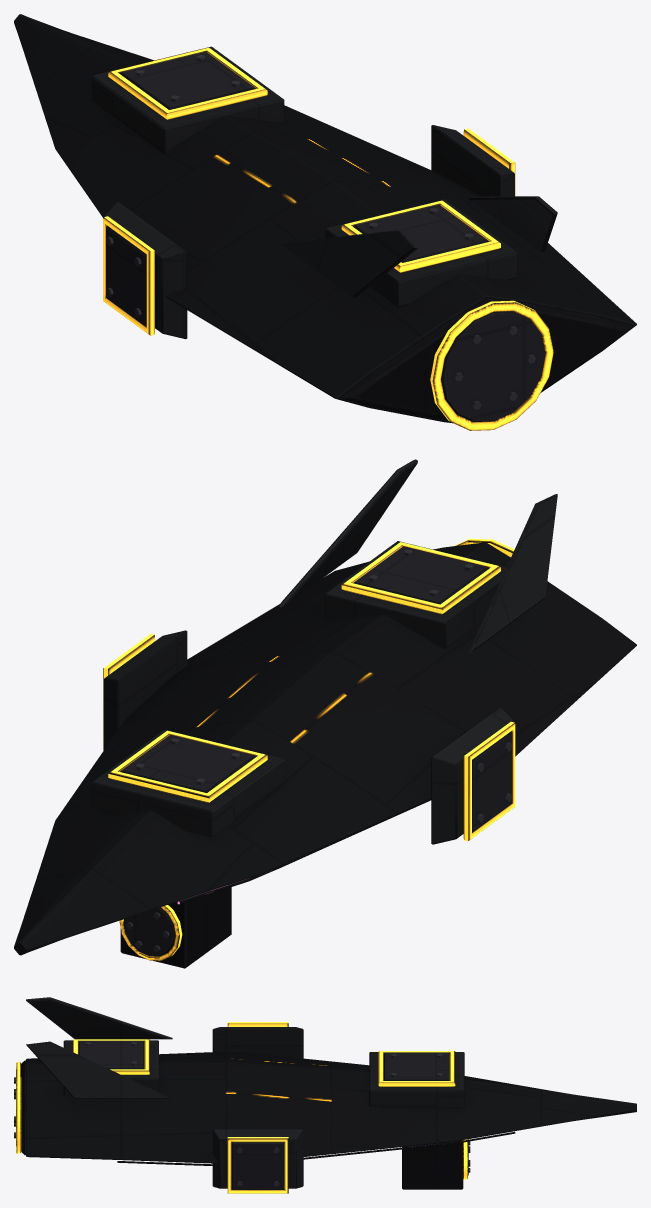
File: casco_stealth_t4.fbx
3 renders of one model, top to bottom at view 1: azimuth 30°, elevation 25°; view 2: azimuth 150°, elevation 25°; view 3: azimuth 270°, elevation 25°, orthographic. The views are drawn at different scales.
Visible parts, largest first — view 1: casco_stealth_t4; view 2: casco_stealth_t4; view 3: casco_stealth_t4.
Part boxes in pixels (<box>): casco_stealth_t4: <box>14,14,636,430</box>; casco_stealth_t4: <box>14,459,636,968</box>; casco_stealth_t4: <box>14,997,636,1193</box>.
Size of the model in its own units: 7.39 by 4.62 by 16.31.
